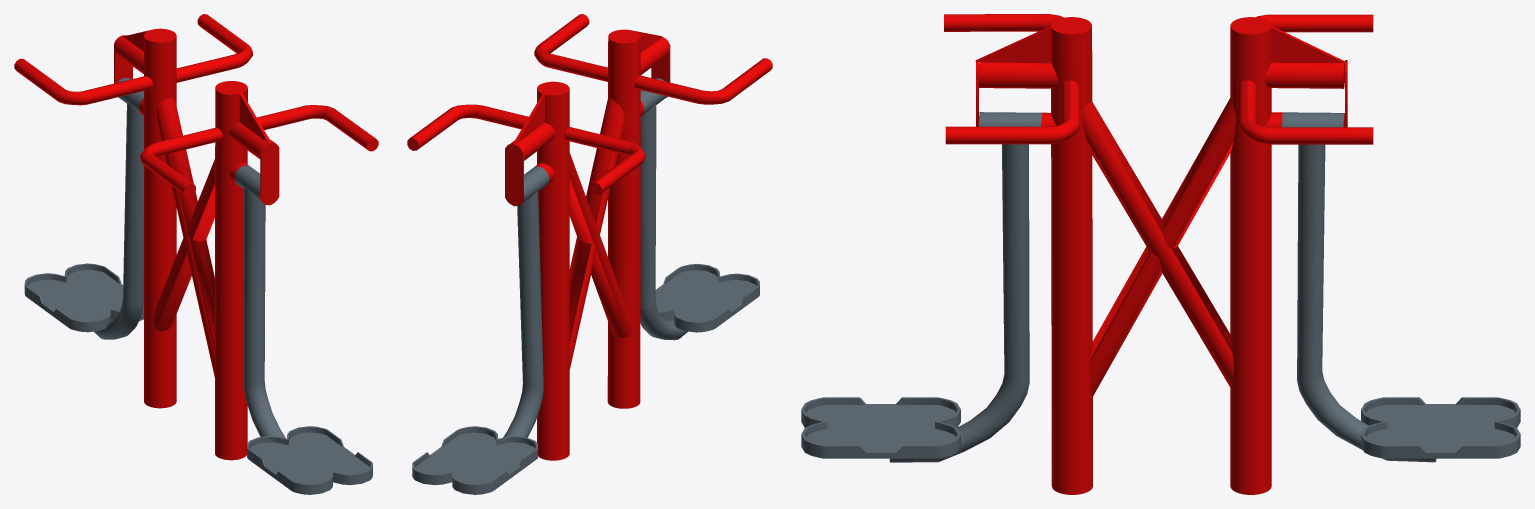
File: MAQUINA DE DOBLE PIE.fbx
3 renders of one model, left to right at view 1: azimuth 30°, elevation 25°; view 2: azimuth 150°, elevation 25°; view 3: azimuth 270°, elevation 25°, orthographic. The views are drawn at different scales.
Visible parts, largest first — view 1: MAQUINA DE DOBLE PIE; view 2: MAQUINA DE DOBLE PIE; view 3: MAQUINA DE DOBLE PIE.
Part boxes in pixels (x1=…): MAQUINA DE DOBLE PIE: x1=14, y1=14, x2=378, y2=494; MAQUINA DE DOBLE PIE: x1=407, y1=14, x2=772, y2=494; MAQUINA DE DOBLE PIE: x1=801, y1=14, x2=1520, y2=494.
Size of the model in its own units: 321 by 572 by 810.
